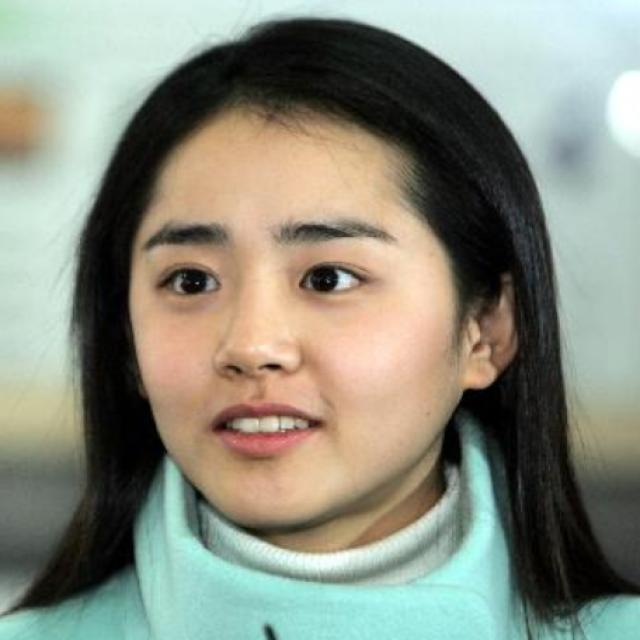face: (114, 44, 533, 528)
